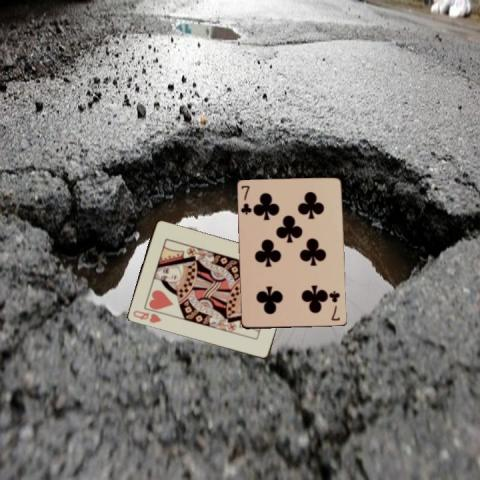7c: (238, 183, 253, 216), (328, 288, 341, 322)
Qh: (129, 307, 163, 325)
